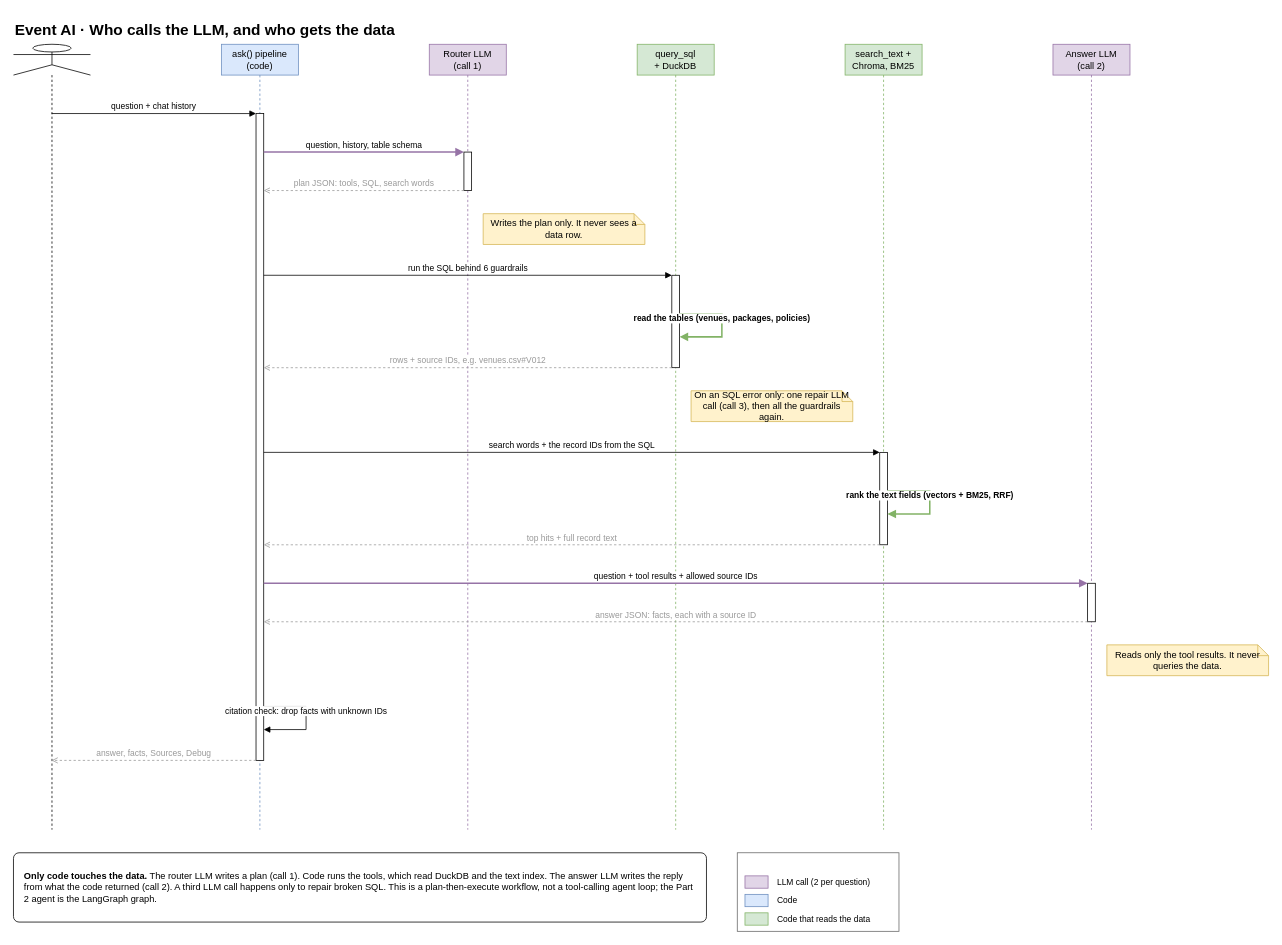
The diagram is 1282 pixels wide and 945 high, and some of its shapes have lost their labels. Here are the shapes that lost their labels. From the top down, the box of each, then its label:
(13, 44, 90, 830): Sales planner
(737, 852, 899, 931): Legend
